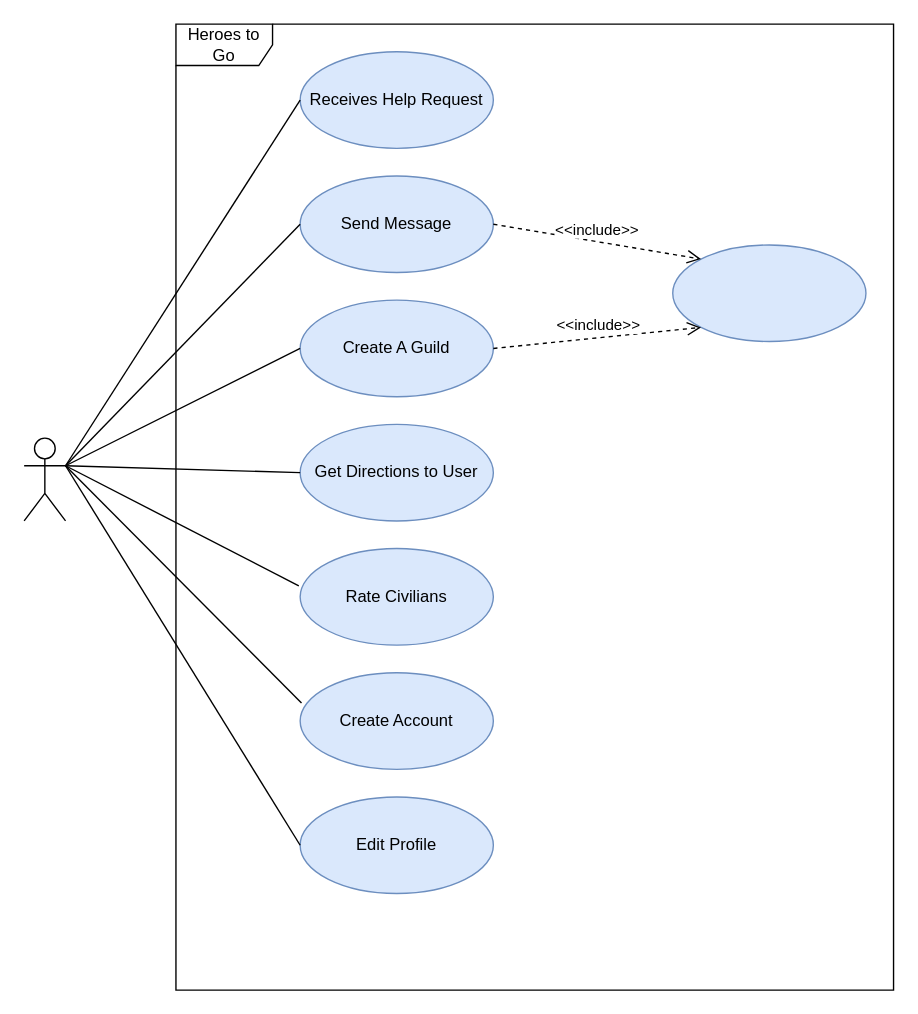
This 918x1014 diagram has some shape labels left out. Each missing label, with the centre of its shape:
Add User: point 768,293
Hero: point 44,479
